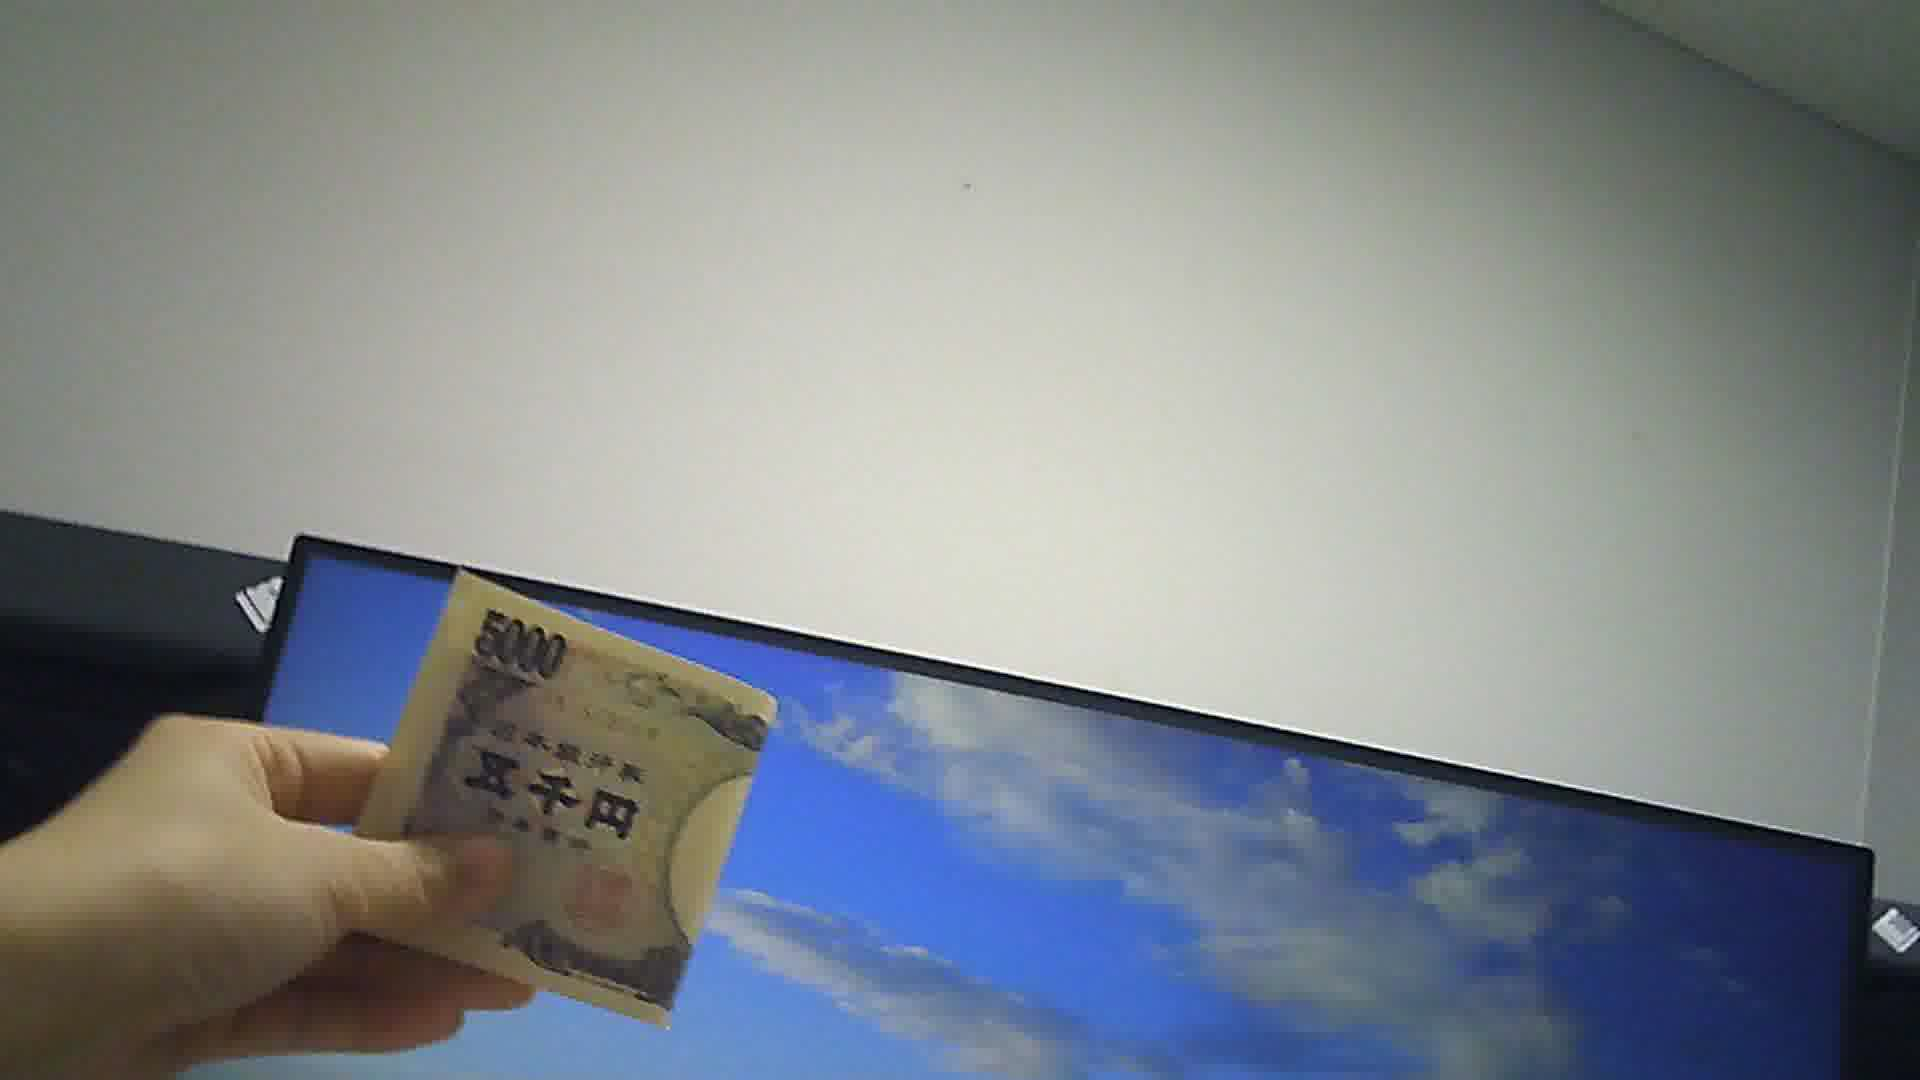5,000 Yen: (327, 567, 790, 1038)
